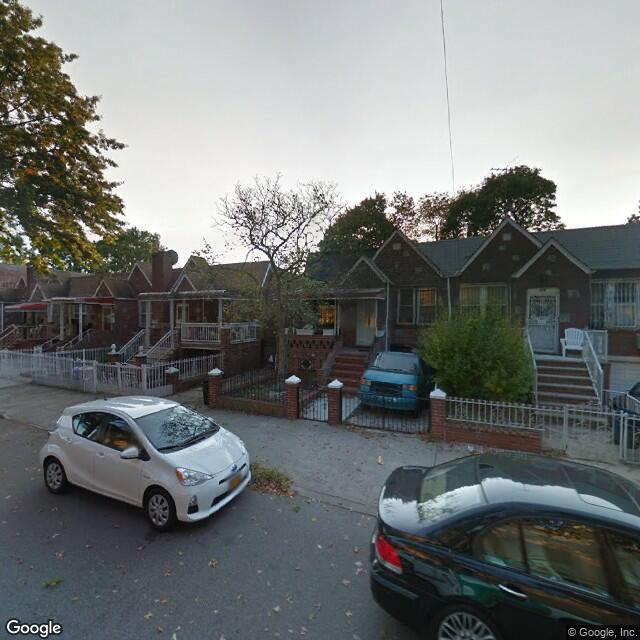litter: (460, 441, 484, 458)
